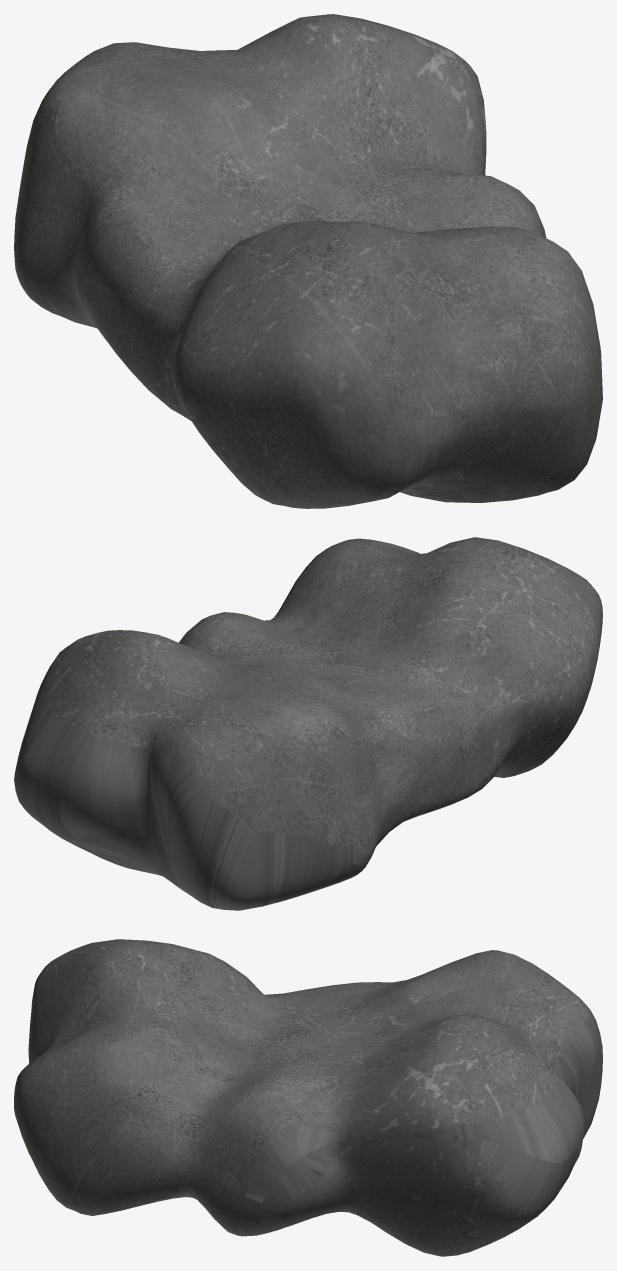
Rendered from Cloud04.fbx.
3 views of the same model, one above another, from view 1: azimuth 30°, elevation 25°; view 2: azimuth 150°, elevation 25°; view 3: azimuth 270°, elevation 25° (orthographic). The views are drawn at different scales.
Parts seen in each view (by area): view 1: could4; view 2: could4; view 3: could4.
Boxes of the visible parts, x1,y1,x2,y2 form: could4: (14, 14, 602, 508); could4: (14, 537, 602, 910); could4: (14, 939, 602, 1256).
Size of the model in its own units: 2.97 by 1.78 by 4.16.
